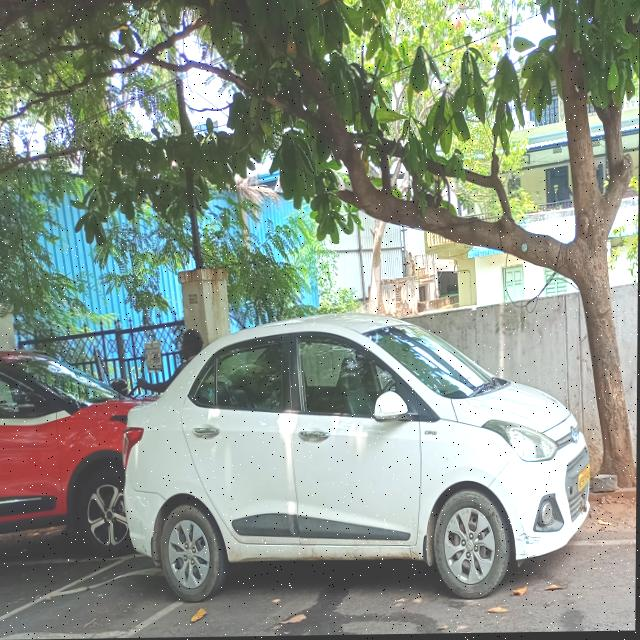car: (114, 285, 597, 607)
